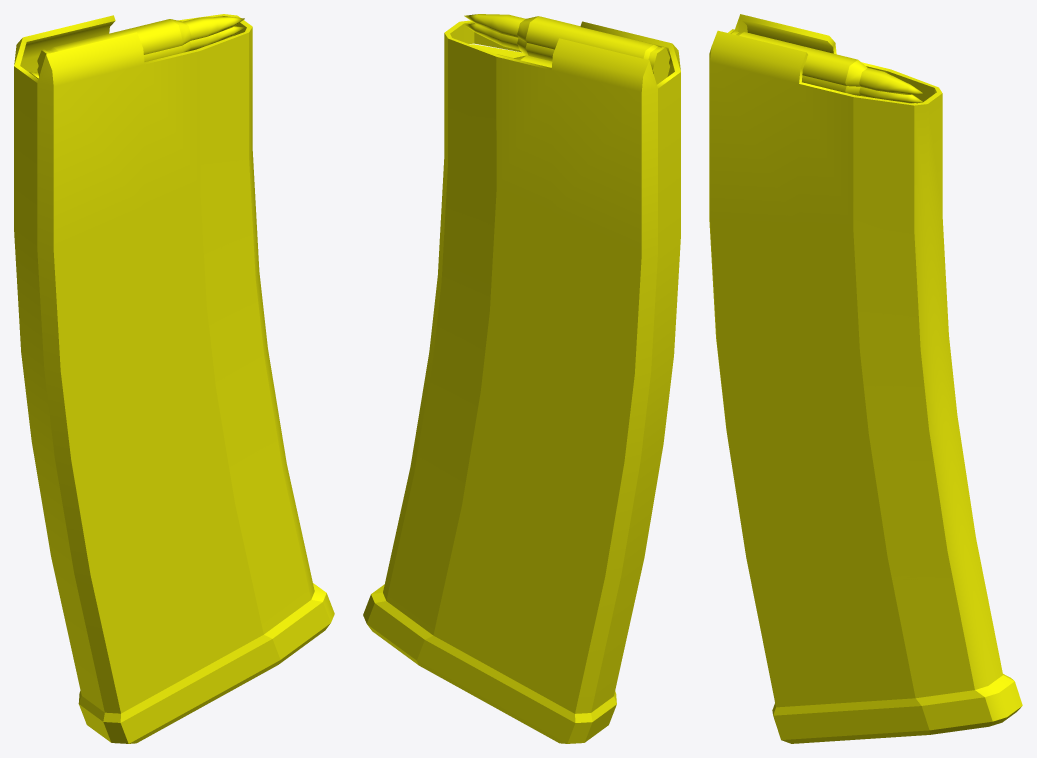
File: Rifle_01_AdditionalMeshes.glb
3 renders of one model, left to right at view 1: azimuth 30°, elevation 25°; view 2: azimuth 150°, elevation 25°; view 3: azimuth 330°, elevation 25°, orthographic. The views are drawn at different scales.
Parts seen in each view (by area): view 1: Rifle_01_Magazine_Separated, Rifle_01_Magazine_OneBullet, Rifle_01_Magazine_2+Bullets; view 2: Rifle_01_Magazine_Separated, Rifle_01_Magazine_OneBullet, Rifle_01_Magazine_2+Bullets; view 3: Rifle_01_Magazine_Separated, Rifle_01_Magazine_OneBullet, Rifle_01_Magazine_2+Bullets.
Boxes of the visible parts, x1,y1,x2,y2 form: Rifle_01_Magazine_Separated: (14,14,334,743); Rifle_01_Magazine_OneBullet: (37,16,244,71); Rifle_01_Magazine_2+Bullets: (29,26,244,78); Rifle_01_Magazine_Separated: (363,20,680,743); Rifle_01_Magazine_OneBullet: (464,14,670,77); Rifle_01_Magazine_2+Bullets: (464,23,669,84); Rifle_01_Magazine_Separated: (709,14,1022,743); Rifle_01_Magazine_OneBullet: (728,29,922,94); Rifle_01_Magazine_2+Bullets: (802,75,922,103).
Bounding box in the file's own units: 0.0966 × 0.2165 × 0.0228.
Materials: 2 (2 with a texture image).
